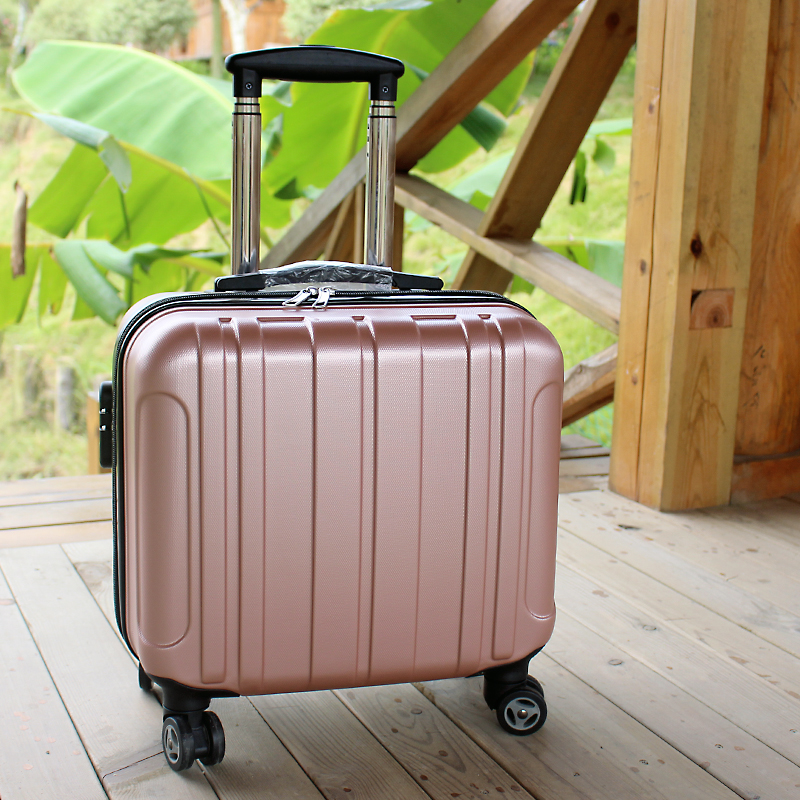box: (113, 289, 566, 699)
handle: (214, 260, 445, 300)
wheel: (162, 710, 226, 772), (487, 674, 548, 736)
